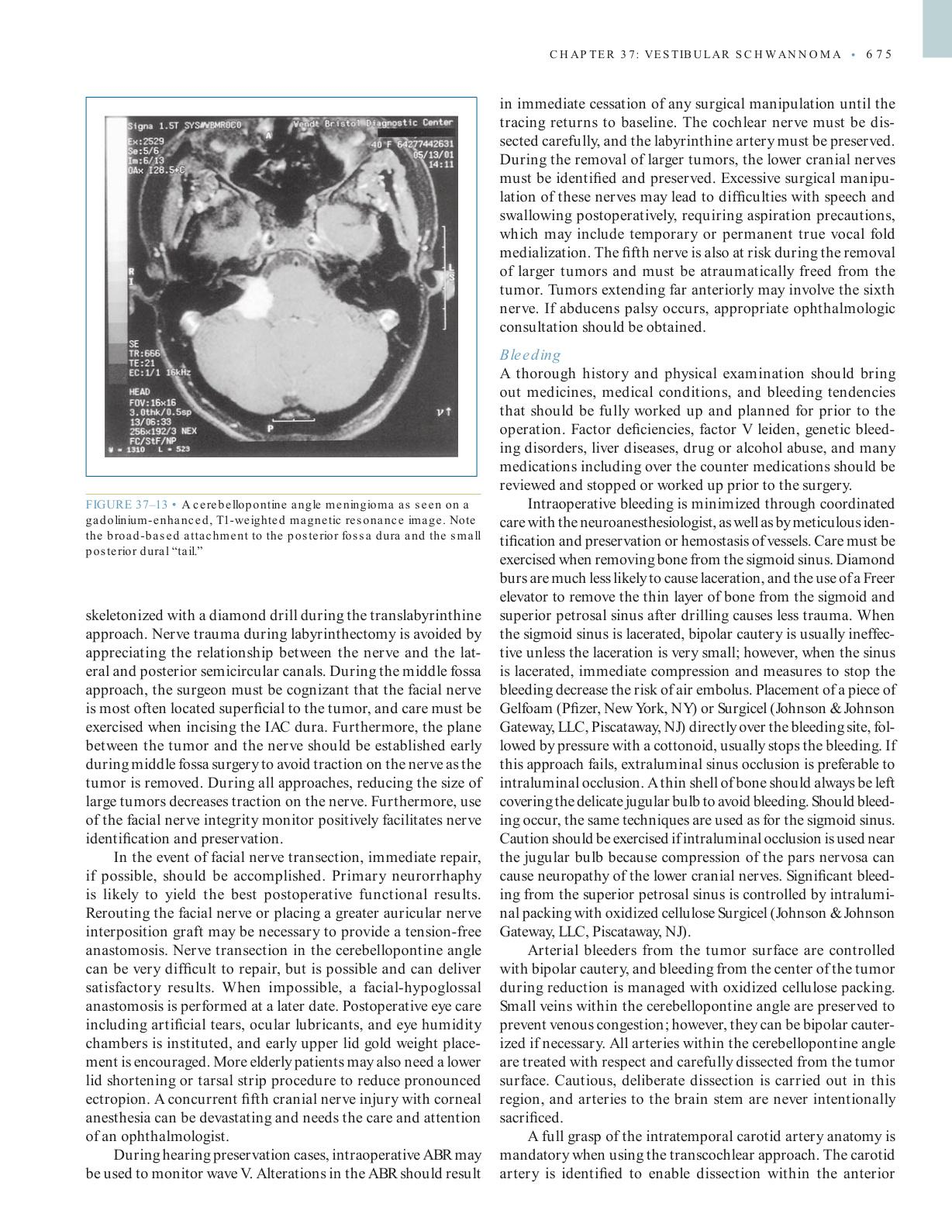caption: (83, 496, 483, 560)
header: (548, 47, 843, 61)
image: (93, 104, 469, 469)
sub-section-heading: (498, 347, 562, 365)
text: (498, 365, 897, 1182), (84, 606, 483, 1183), (497, 94, 897, 337)
